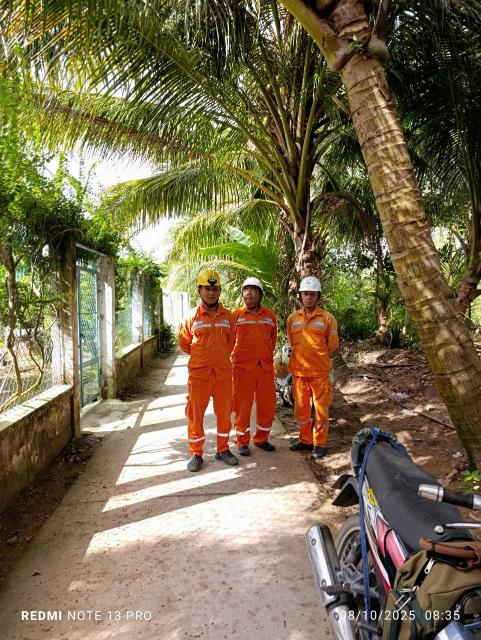helmet: (195, 268, 226, 292), (295, 276, 325, 297), (241, 277, 268, 295)
shoes: (253, 434, 277, 455), (185, 451, 206, 473), (288, 435, 314, 452), (215, 447, 238, 466), (312, 440, 329, 461), (234, 440, 250, 458)
